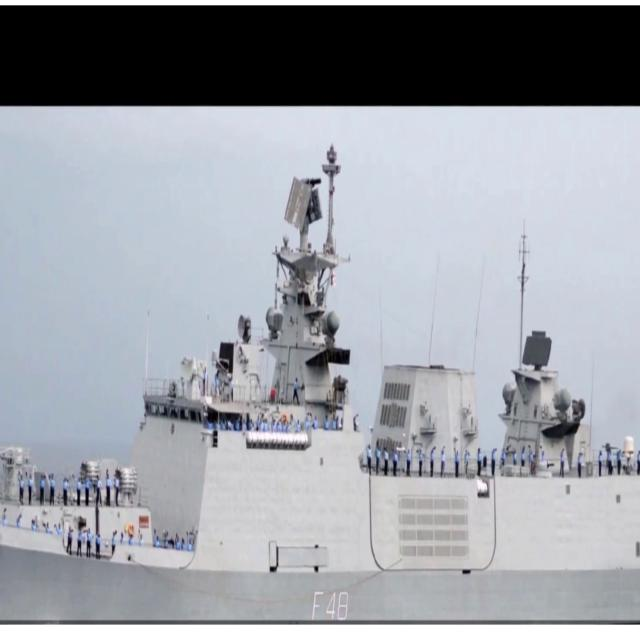OCR: (307, 585, 359, 622)
